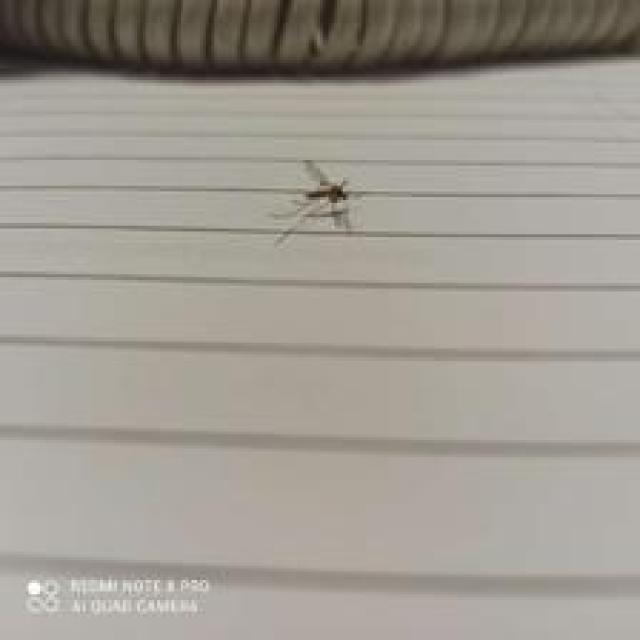Culex: (271, 159, 366, 247)
